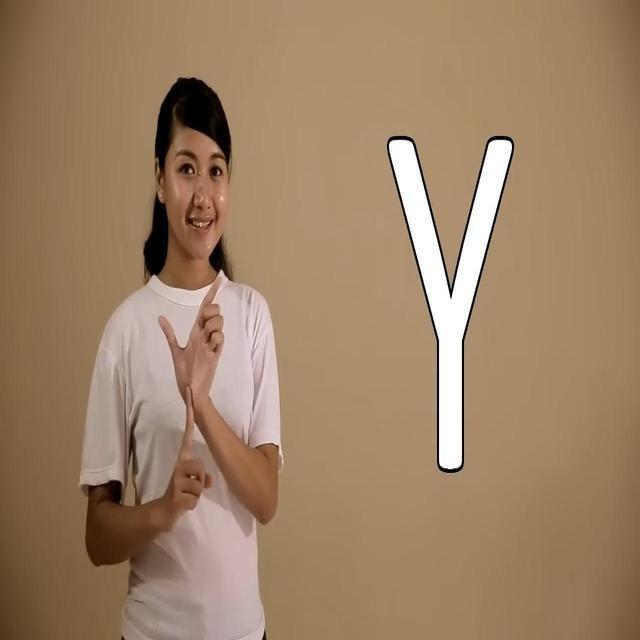Y: (152, 267, 232, 495)
